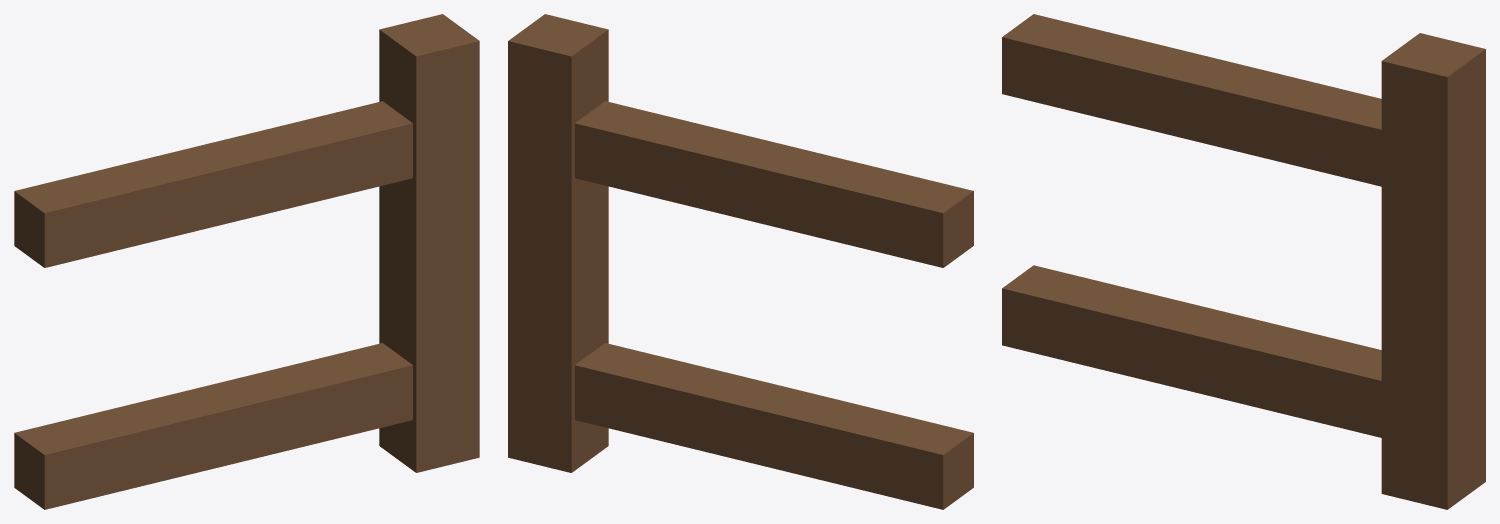
File: Valla coneccion.fbx
3 views of the same model, side by side, from view 1: azimuth 30°, elevation 25°; view 2: azimuth 150°, elevation 25°; view 3: azimuth 330°, elevation 25° (orthographic). The views are drawn at different scales.
Parts seen in each view (by area): view 1: polySurface518; view 2: polySurface518; view 3: polySurface518.
Boxes of the visible parts, x1,y1,x2,y2 form: polySurface518: (14, 14, 479, 509); polySurface518: (508, 14, 973, 509); polySurface518: (1002, 14, 1485, 509).
Bounding box in the file's own units: 2.62 × 2.42 × 0.3883.
